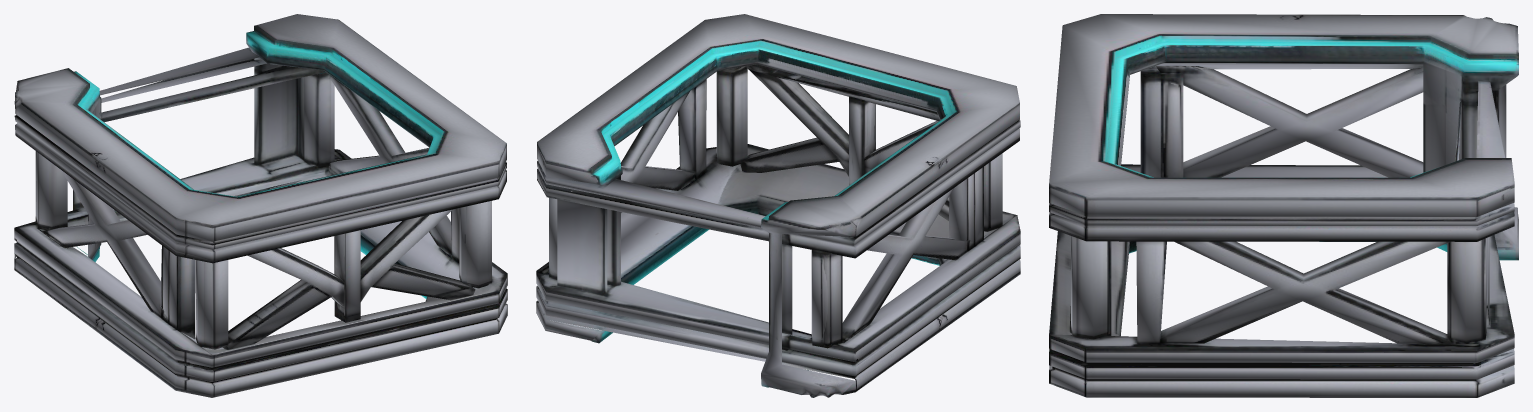
File: attach_43.glb
3 renders of one model, left to right at view 1: azimuth 30°, elevation 25°; view 2: azimuth 150°, elevation 25°; view 3: azimuth 270°, elevation 25°, orthographic. The views are drawn at different scales.
Visible parts, largest first — view 1: 43; view 2: 43; view 3: 43.
Part boxes in pixels (x1,y1,x2,y2): 43: [14, 14, 507, 397]; 43: [536, 14, 1020, 397]; 43: [1049, 14, 1518, 397].
Size of the model in its own units: 0.1381 by 0.07 by 0.1486.
Materials: 1 (1 with a texture image).
